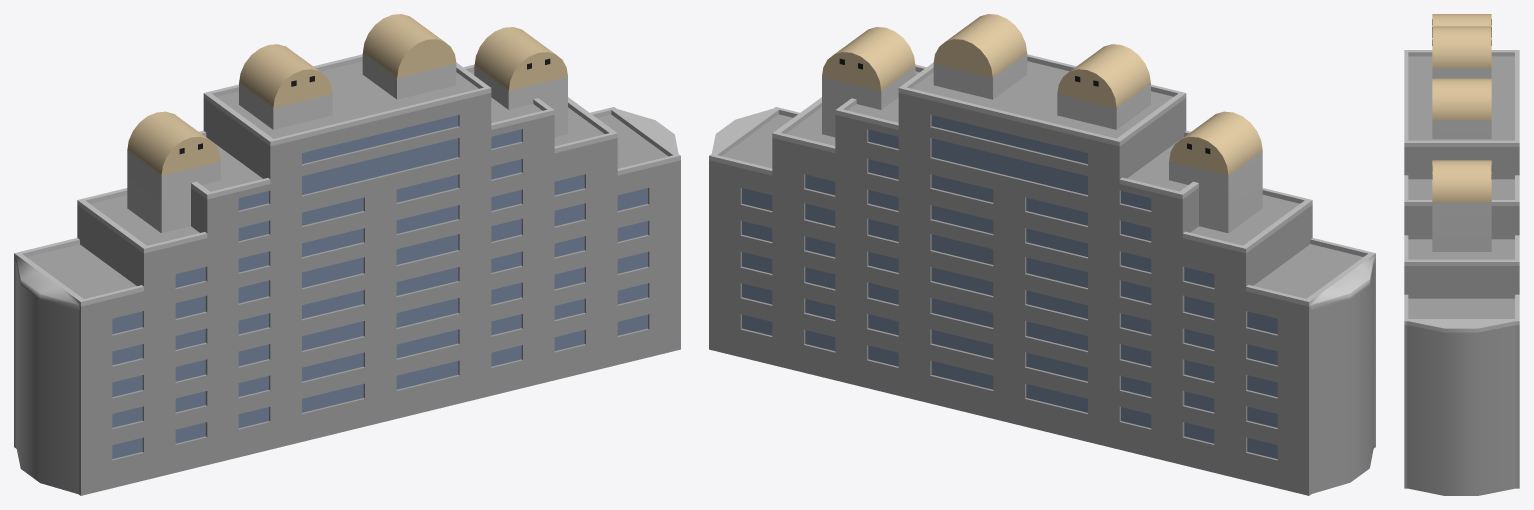
The model's file is HumpsBuilding.fbx.
3 views of the same model, side by side, from view 1: azimuth 30°, elevation 25°; view 2: azimuth 150°, elevation 25°; view 3: azimuth 270°, elevation 25° (orthographic). The views are drawn at different scales.
Parts seen in each view (by area): view 1: SpecialBuilding16; view 2: SpecialBuilding16; view 3: SpecialBuilding16.
Boxes of the visible parts, x1,y1,x2,y2 form: SpecialBuilding16: (14, 14, 680, 495); SpecialBuilding16: (709, 14, 1375, 495); SpecialBuilding16: (1404, 14, 1519, 495).
Size of the model in its own units: 21.38 by 11.46 by 3.89.
